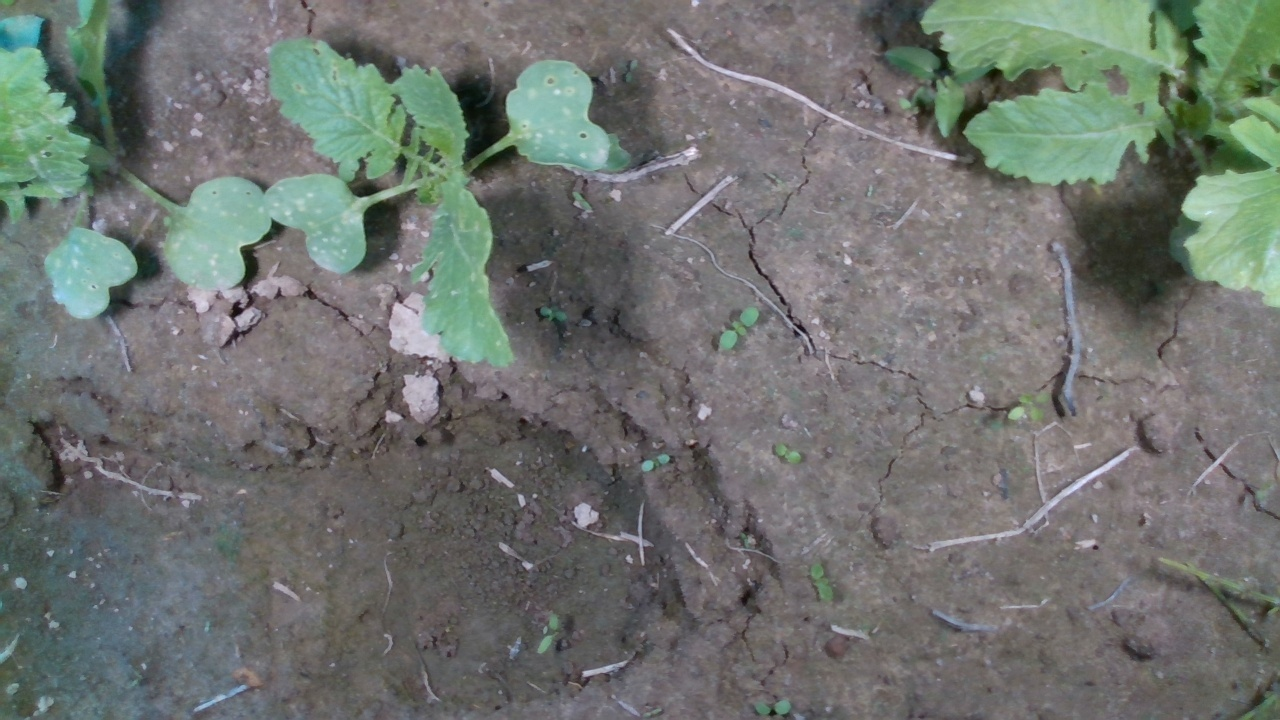weed: (716, 305, 759, 352), (536, 611, 560, 656), (809, 562, 835, 603), (772, 442, 803, 466), (751, 699, 792, 717), (639, 452, 671, 474), (537, 305, 568, 323), (570, 191, 594, 214)
